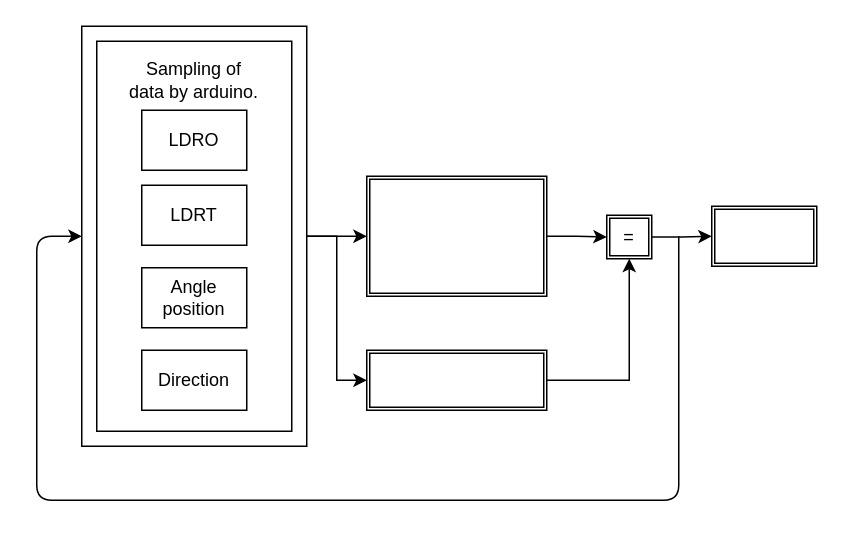
The diagram is 843 pixels wide and 539 high, and some of its shapes have lost their labels. The box of each missing label's shape, as (x1, y1, x2, y2) in pixels:
Accuracy: (710, 205, 817, 266)
error = abs(LDRO-LDRT): (365, 349, 547, 410)
NN Processing: (365, 175, 547, 296)
